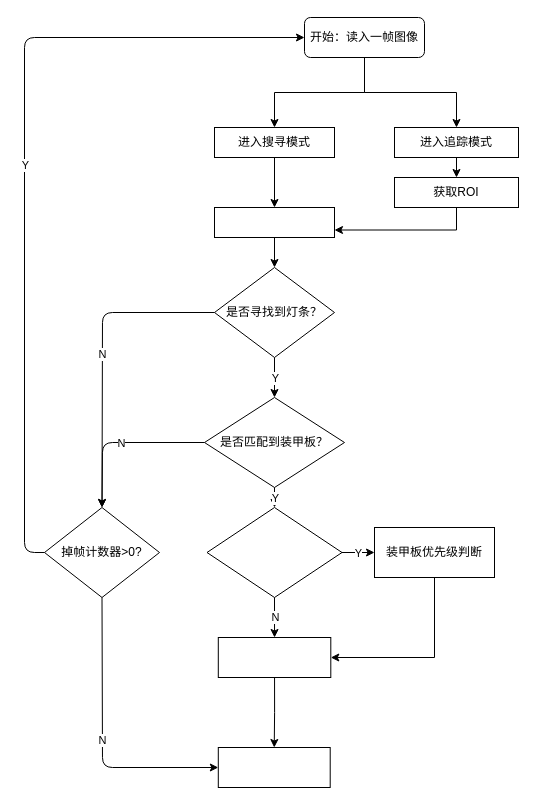
Some shapes in this 536 by 805 pixel diagram are drawn without their labels. Each missing label, with the centre of its shape:
串口传输: point (273, 767)
只剩一个装甲板？: point (274, 552)
图像预处理: point (274, 222)
角度解算: point (274, 657)
